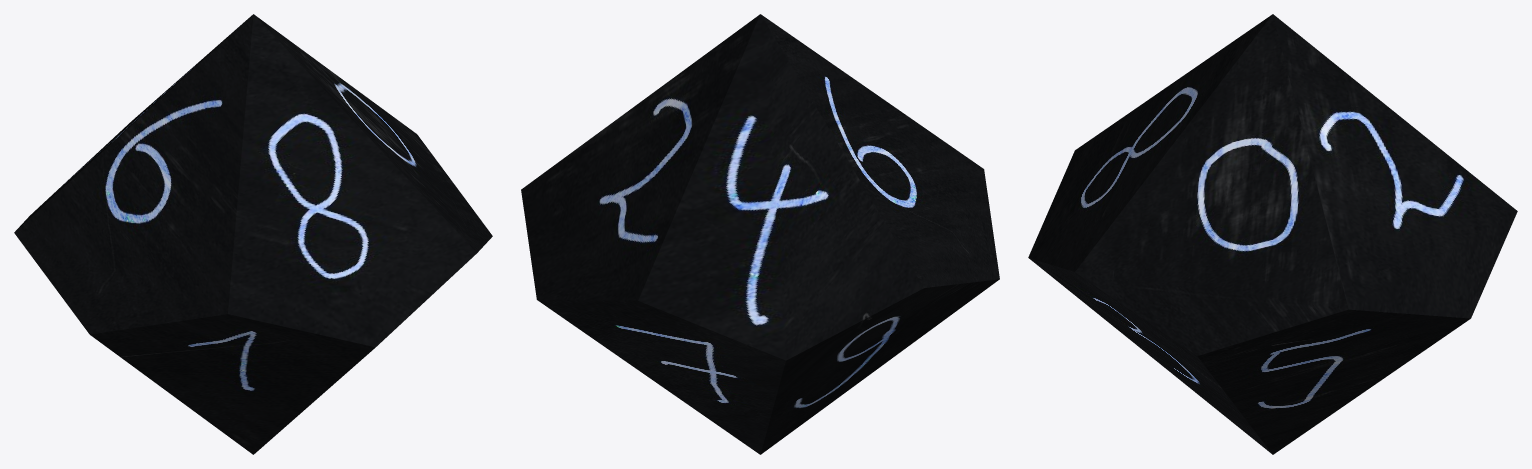
The model's file is ten_sided_dice.glb.
3 renders of one model, left to right at view 1: azimuth 30°, elevation 25°; view 2: azimuth 150°, elevation 25°; view 3: azimuth 270°, elevation 25°, orthographic.
Parts seen in each view (by area): view 1: Cone; view 2: Cone; view 3: Cone.
Boxes of the visible parts, x1,y1,x2,y2 form: Cone: [14, 14, 492, 454]; Cone: [521, 14, 999, 454]; Cone: [1028, 14, 1517, 454].
Bounding box in the file's own units: 1.91 × 2 × 2.01.
Materials: 1 (1 with a texture image).
